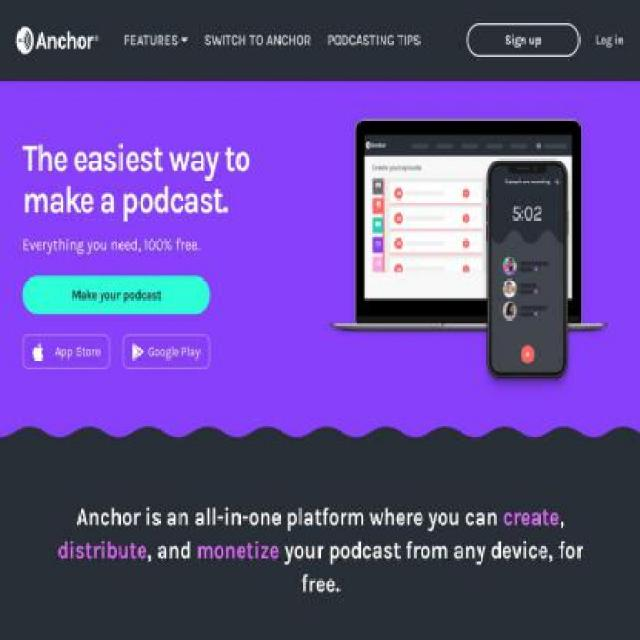button: (22, 275, 210, 314), (467, 23, 579, 57), (22, 333, 110, 370), (122, 333, 210, 370), (204, 29, 311, 51), (17, 26, 98, 54), (328, 29, 420, 51)
